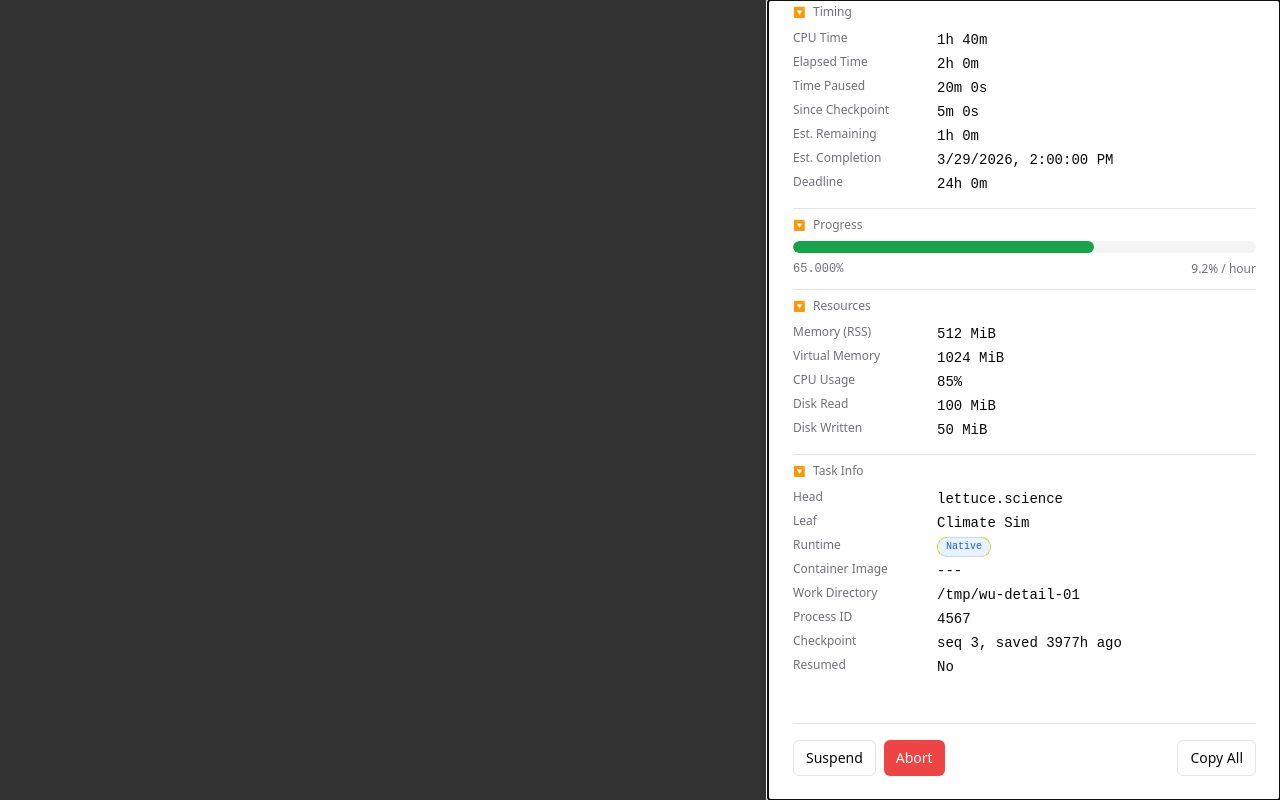
TaskDetailPanel › shows confirmation dialog when Abort is clicked
(page scrolled)
Click the button "Abort".
click(914, 758)  # box left=884, top=740, right=945, bottom=776
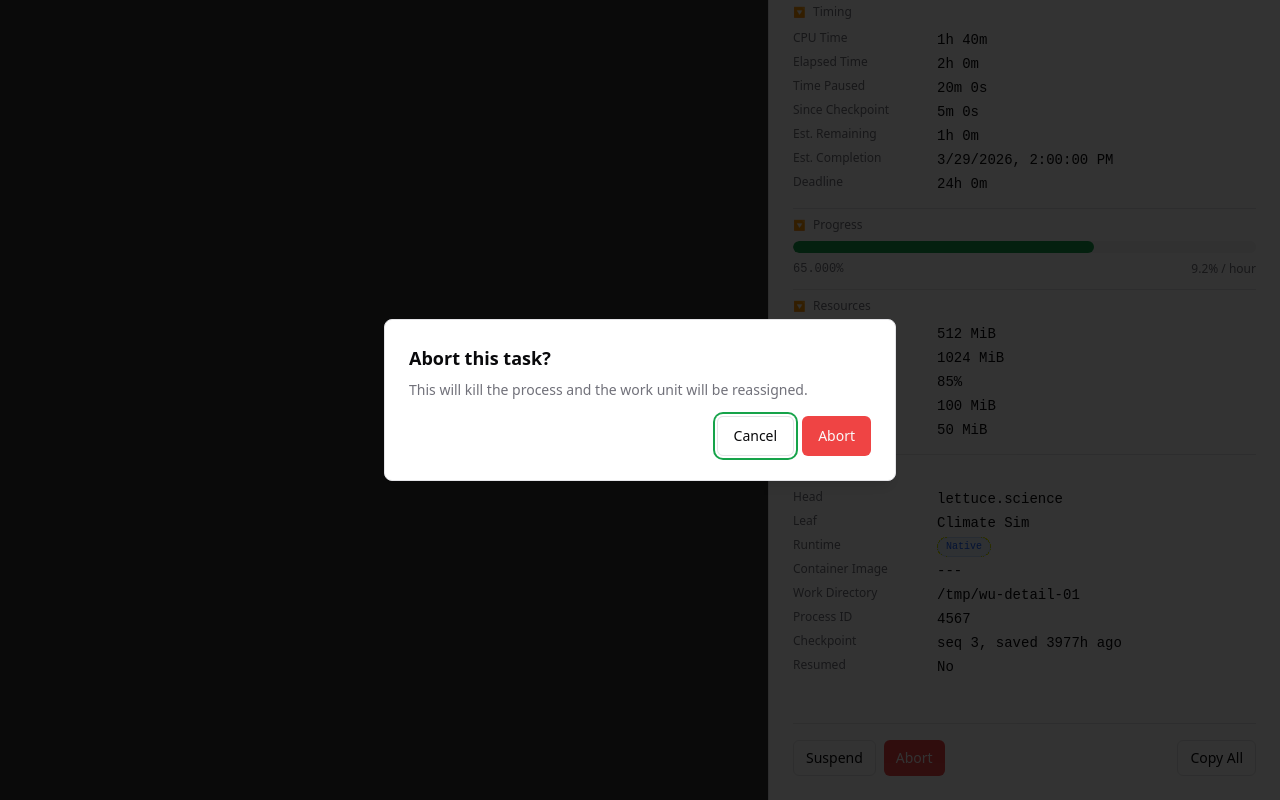
Expected: the heading "Abort this task?" is shown, left=409, top=346, right=551, bottom=370
Expected: the text "This will kill the process and the work unit will be reassigned." is shown, left=409, top=380, right=871, bottom=400
